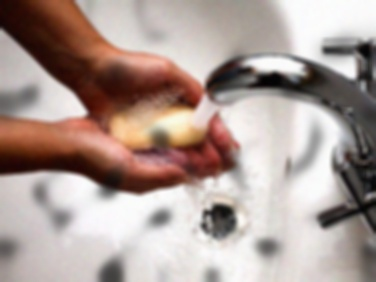washing hand: (57, 15, 324, 251)
